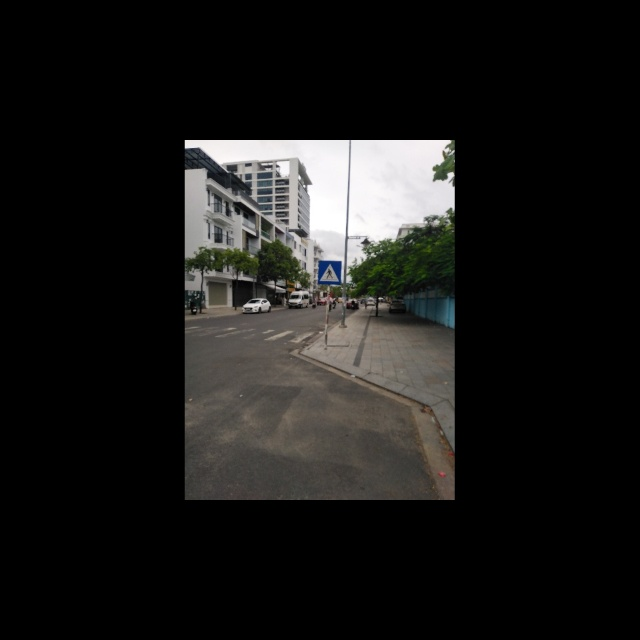Đường dành cho người đi bộ: (318, 260, 340, 284)
